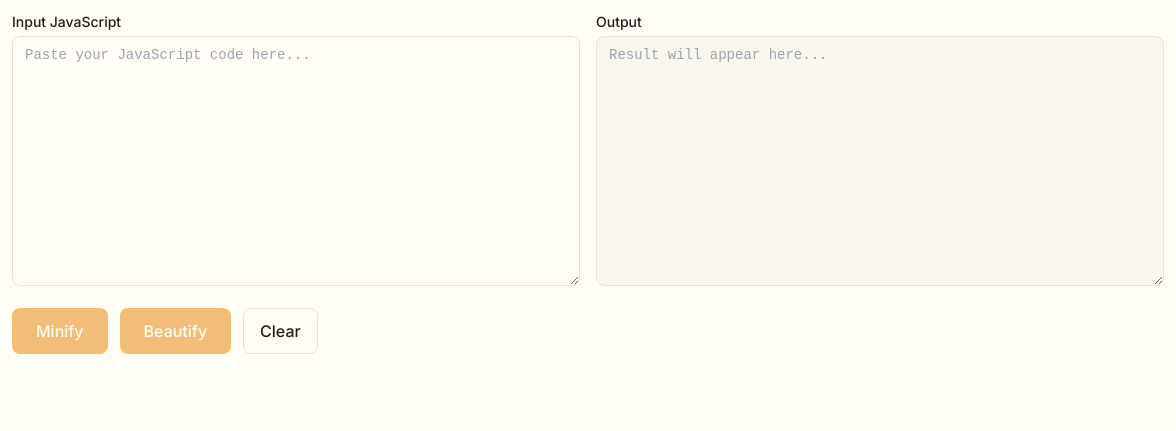
Test: JsMinifier › clears everything when Clear is clicked
Step 1. Type "var x = 1;" into the text box named "JavaScript input" → (296, 161), box [12,36,580,286]
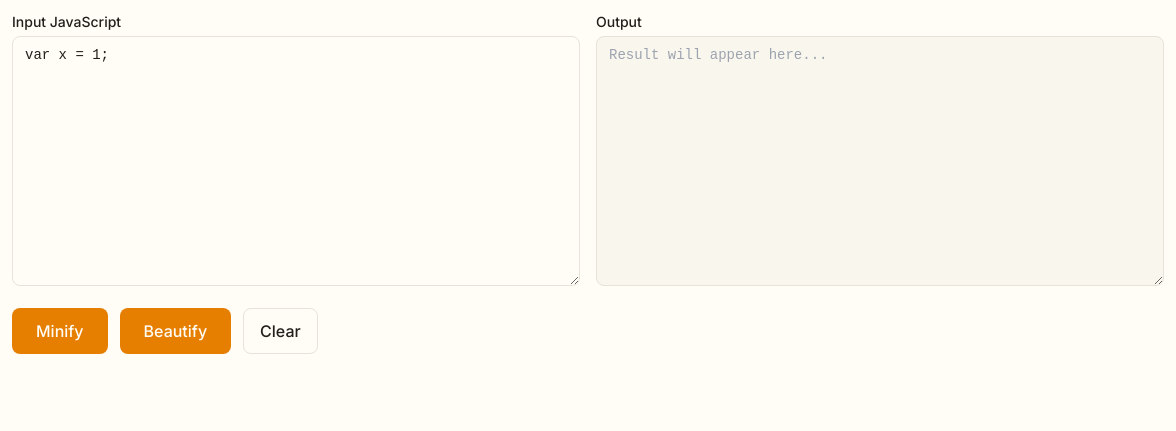
Step 2. Click the button "Minify" → (60, 331), box [12,308,108,354]
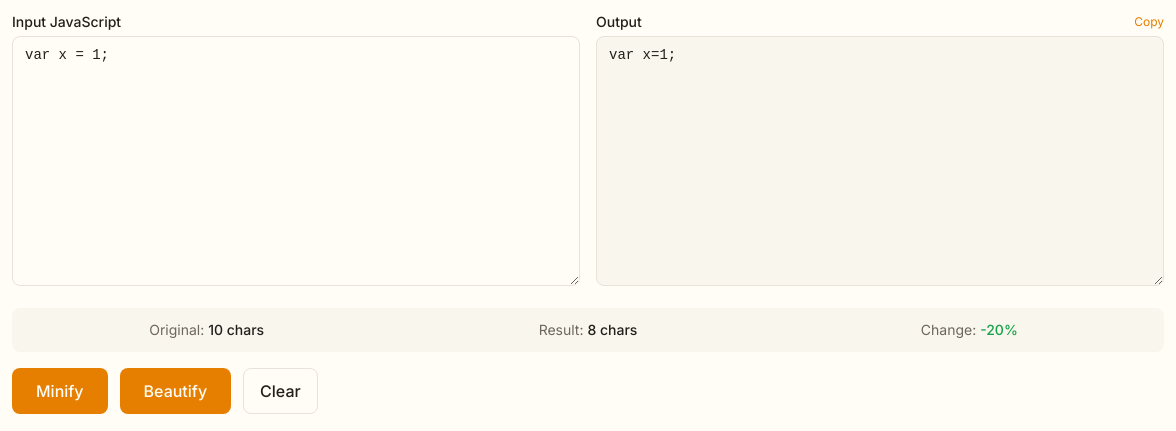
Step 3. Click the button "Clear" → (280, 391), box [243,368,318,414]
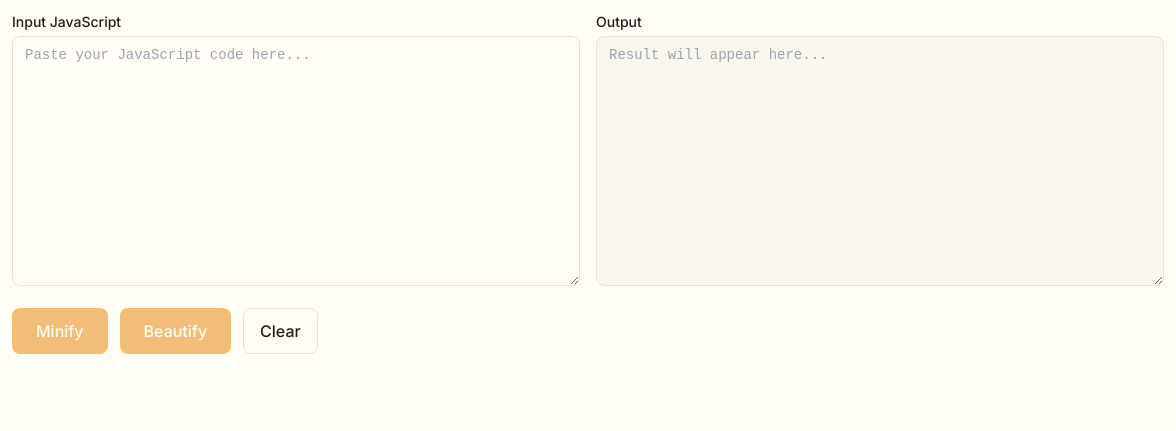
Expected: the text box named "JavaScript input" is empty, [12,36,580,286]
Expected: the text box named "JavaScript output" is empty, [596,36,1164,286]
Expected: the text "Original:" is gone
